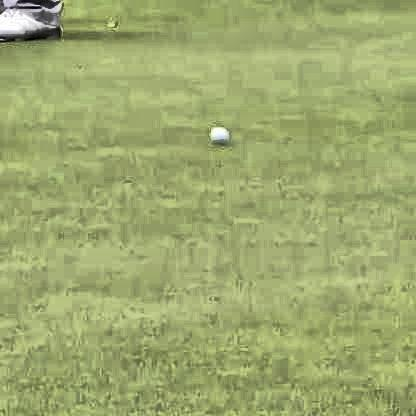golfball: (206, 123, 228, 143)
